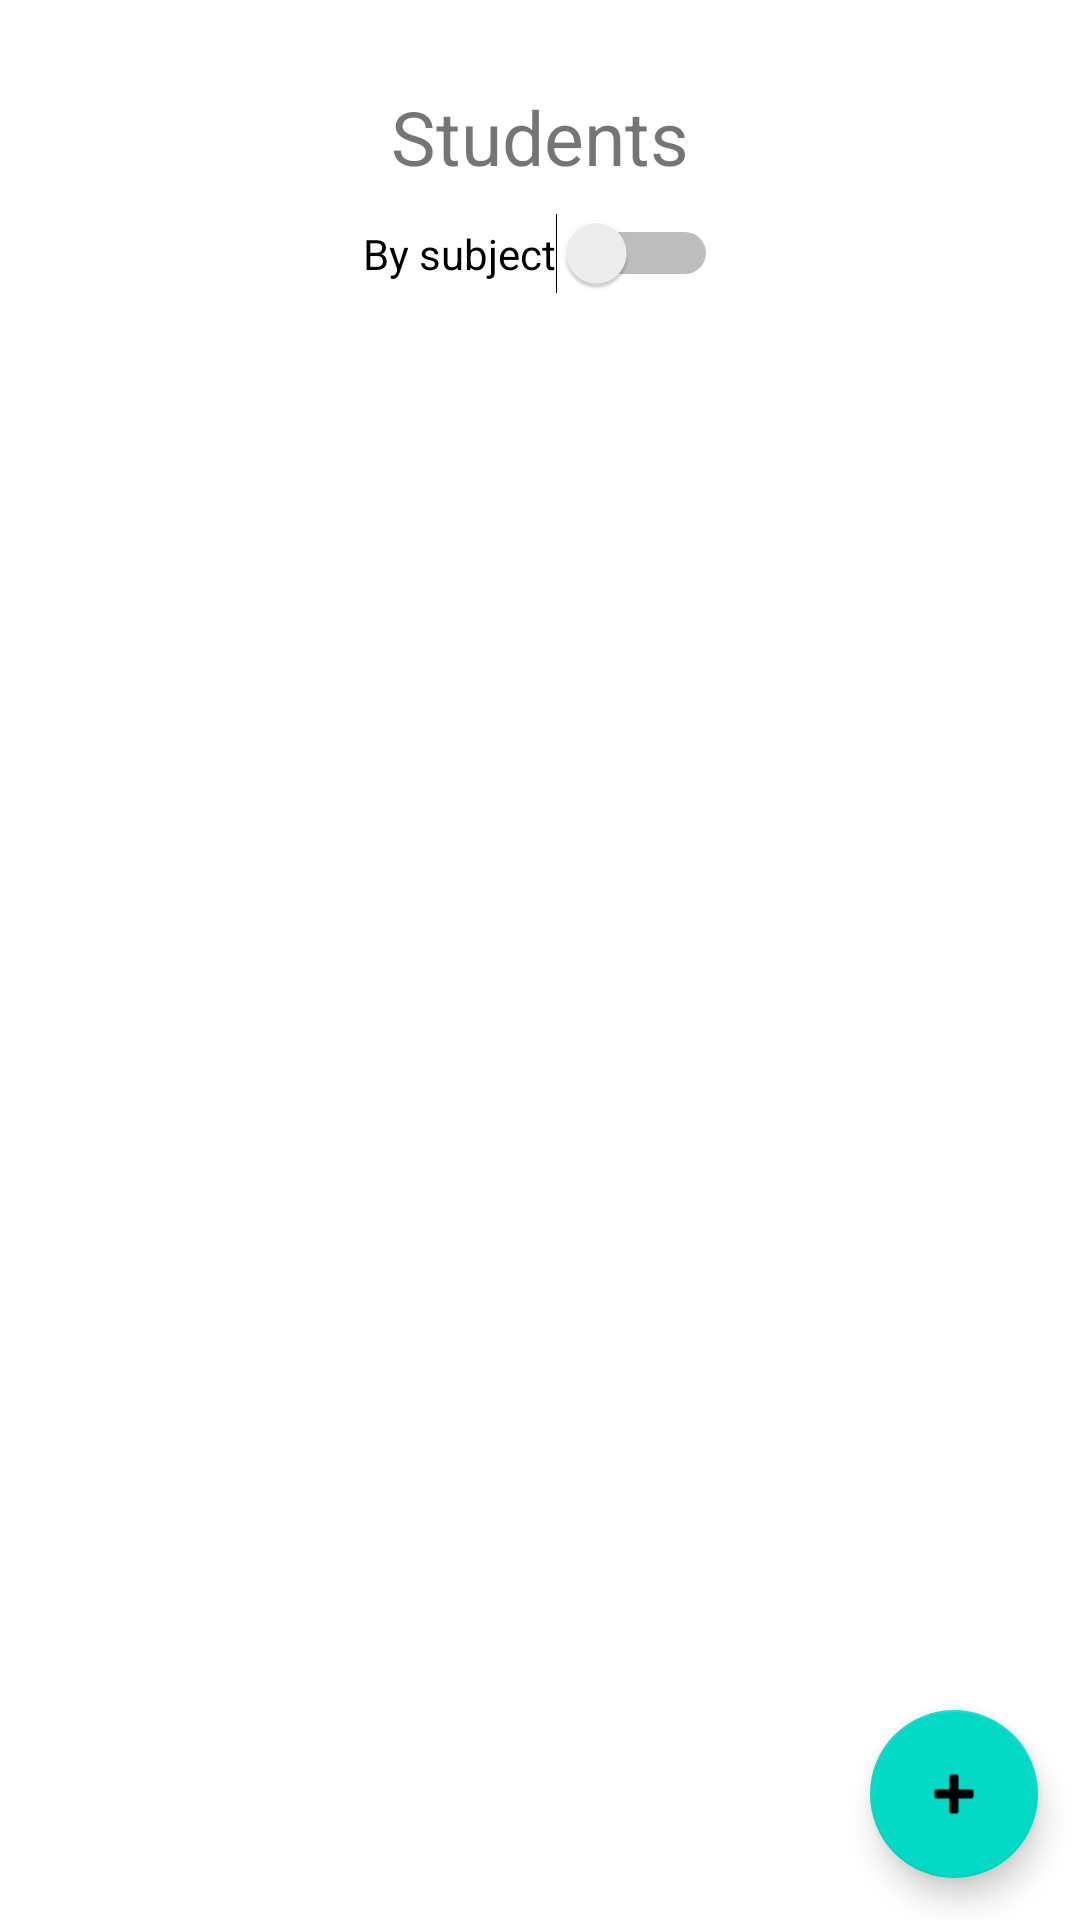

Icon click points for this 1080px x 1920px phone screenshot, format (x,y):
add: (954,1794)
